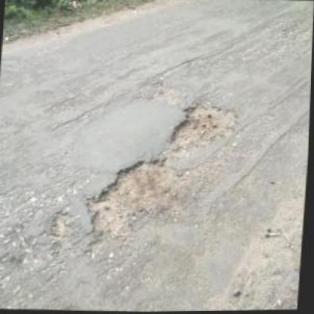Hueco: (87, 156, 192, 238), (167, 99, 244, 155), (51, 213, 78, 240)
